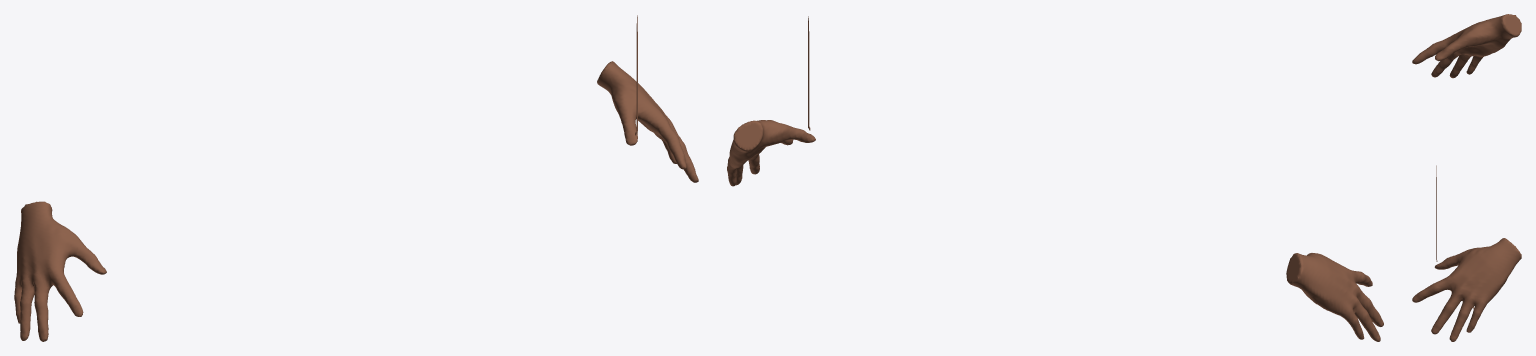
The model's file is hands-open.glb.
3 renders of one model, left to right at view 1: azimuth 30°, elevation 25°; view 2: azimuth 150°, elevation 25°; view 3: azimuth 270°, elevation 25°, orthographic. The views are drawn at different scales.
Parts seen in each view (by area): view 1: hands; view 2: hands; view 3: hands.
Part boxes in pixels (x1,y1,x2,y2): hands: [14, 15, 698, 341]; hands: [727, 16, 1383, 341]; hands: [1412, 14, 1521, 341].
Size of the model in its own units: 1 by 0.2651 by 0.1748.
